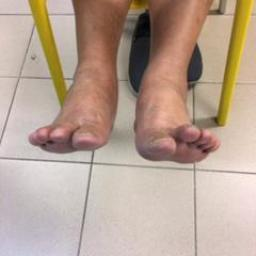Front View -Both Feet-: (11, 13, 244, 180)
